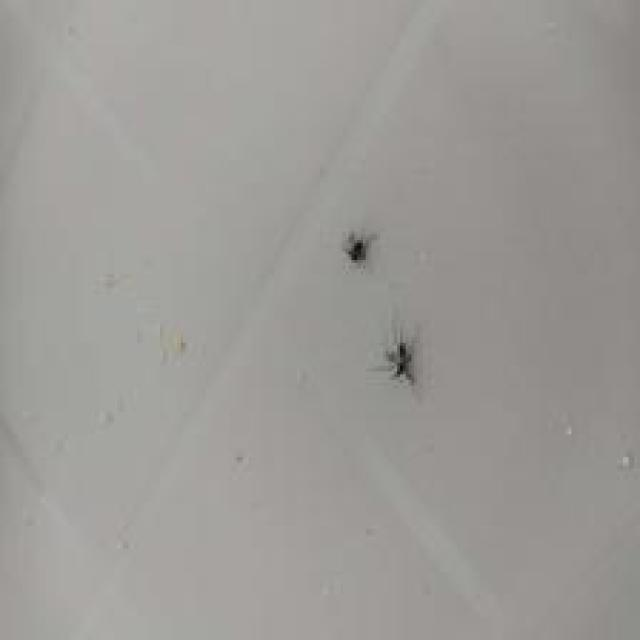Aedes albopictus: (341, 228, 376, 266)
